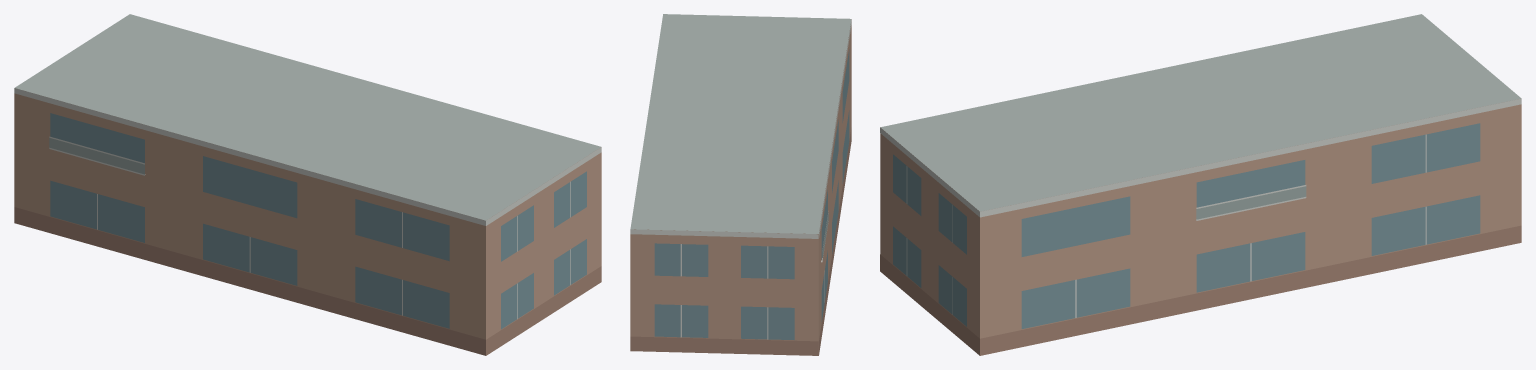
Rendered from survey-upis-32941207.glb.
3 renders of one model, left to right at view 1: azimuth 30°, elevation 25°; view 2: azimuth 150°, elevation 25°; view 3: azimuth 270°, elevation 25°, orthographic. The views are drawn at different scales.
Parts seen in each view (by area): view 1: survey-upis-32941207.tmp; view 2: survey-upis-32941207.tmp; view 3: survey-upis-32941207.tmp.
Part boxes in pixels (<box>): survey-upis-32941207.tmp: <box>14,14,601,355</box>; survey-upis-32941207.tmp: <box>630,14,851,355</box>; survey-upis-32941207.tmp: <box>880,14,1521,355</box>.
Size of the model in its own units: 17.95 by 6.1 by 24.61.
